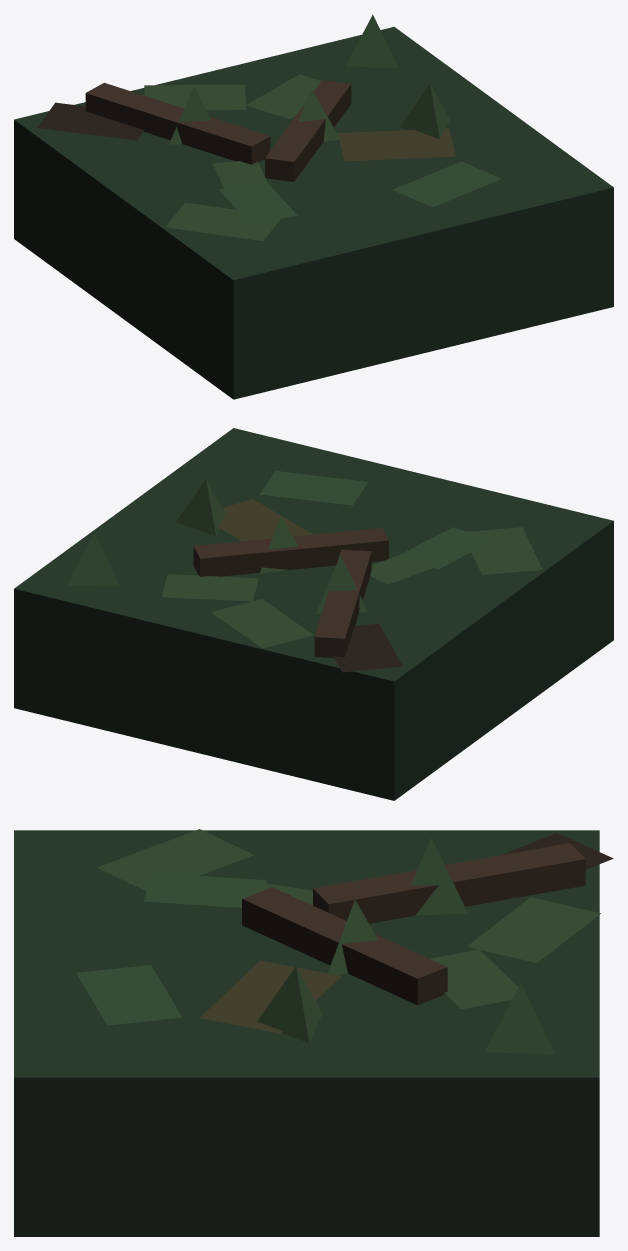
Rendered from f_floor.glb.
The picture shows the model from 3 angles, top to bottom: view 1: azimuth 30°, elevation 25°; view 2: azimuth 150°, elevation 25°; view 3: azimuth 270°, elevation 25°; orthographic projection. The views are drawn at different scales.
Parts seen in each view (by area): view 1: f_floor; view 2: f_floor; view 3: f_floor.
Part boxes in pixels (x1,y1,x2,y2): f_floor: (14,14,613,399); f_floor: (14,428,613,800); f_floor: (14,829,613,1236).
Bounding box in the file's own units: 1 × 0.4297 × 1.02.
